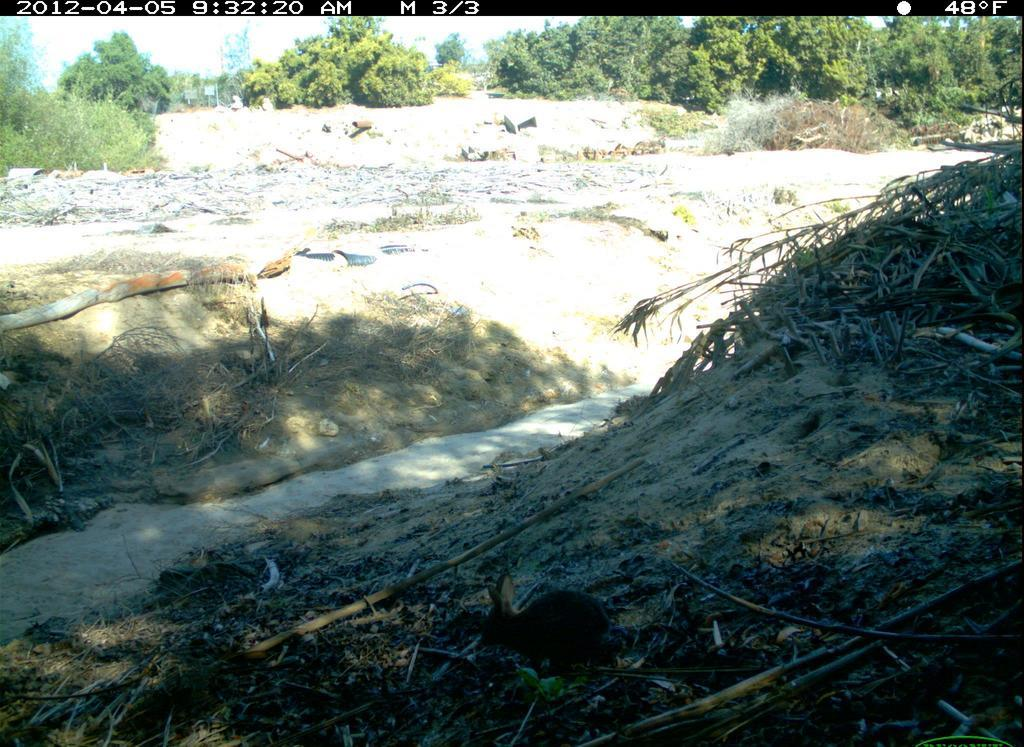rabbit: (475, 571, 625, 683)
